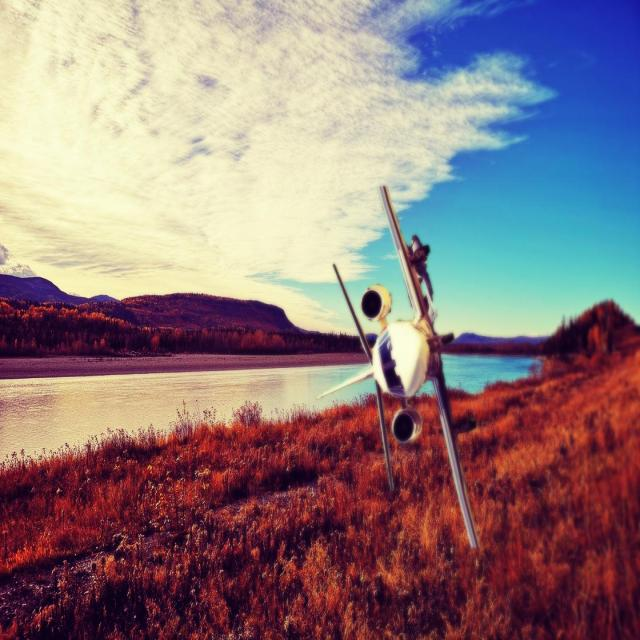airplane: (317, 186, 478, 548)
